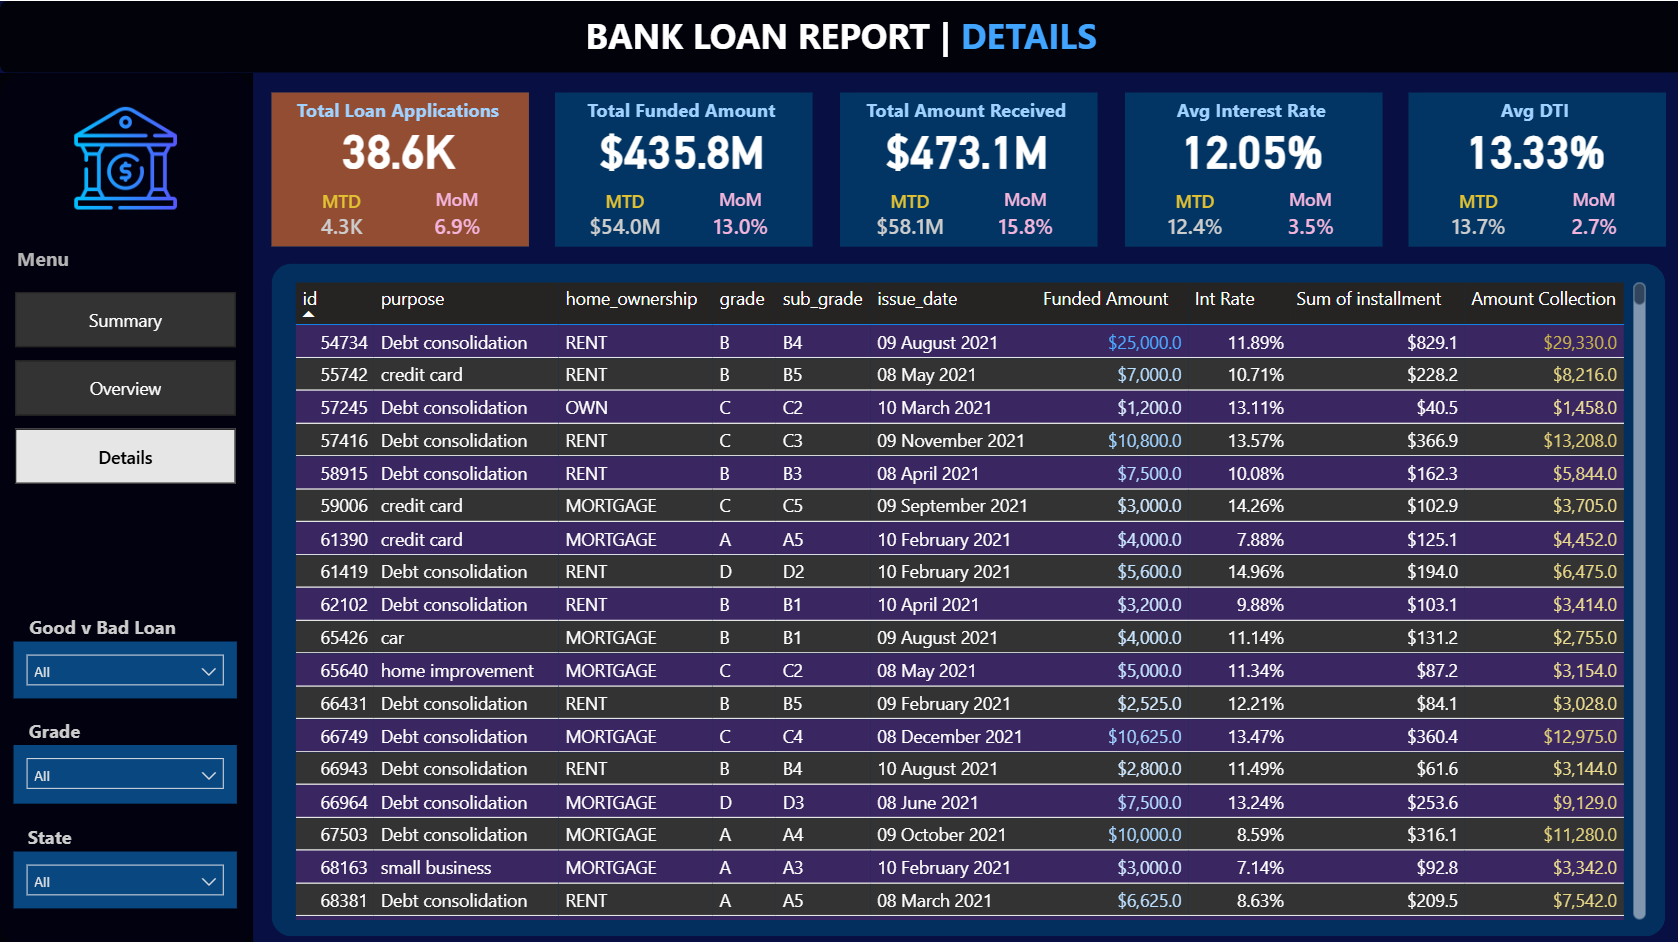

This screenshot's page, from the dashboard's own definition file:
{"tool":"powerbi","page":{"name":"Details","canvas":[1280,720],"ordinal":2},"visuals":[{"type":"shape","box":[0,0,1280.5,54.6],"z":0},{"type":"group","id":"g1","title":"Group 1","box":[203.1,69.4,199.4,120.6],"z":0,"group":"g7"},{"type":"group","id":"g2","title":"Group 1","box":[419.5,69.4,199.4,120.6],"z":0,"group":"g8"},{"type":"group","id":"g3","title":"Group 1","box":[636,69.4,199.4,120.6],"z":0,"group":"g9"},{"type":"group","id":"g4","title":"Group 1","box":[852.6,69.4,199.4,120.6],"z":0,"group":"g10"},{"type":"group","id":"g5","title":"Group 1","box":[1069.1,69.4,199.4,120.6],"z":0,"group":"g11"},{"type":"textbox","box":[203.6,67.3,199.3,30.8],"z":1000,"group":"g7"},{"type":"textbox","box":[420,67.3,199.3,30.8],"z":1000,"group":"g8"},{"type":"textbox","box":[636.5,67.3,199.3,30.8],"z":1000,"group":"g9"},{"type":"textbox","box":[853.1,67.3,199.3,30.8],"z":1000,"group":"g10"},{"type":"textbox","box":[1069.6,67.3,199.3,30.8],"z":1000,"group":"g11"},{"type":"shape","box":[207,199.6,1060.9,512.2],"z":1000},{"type":"textbox","box":[8.1,461.6,140,35.6],"z":1000,"group":"g16"},{"type":"textbox","box":[9.9,539.5,62.5,32.4],"z":1000,"group":"g17"},{"type":"textbox","box":[1.8,620.6,71.2,29.7],"z":1000,"group":"g18"},{"type":"shape","box":[0,54.6,192.9,665.8],"z":2000},{"type":"shape","box":[0,54.6,192.9,665.8],"z":3000},{"type":"shape","box":[206.5,69.4,195.9,117.2],"z":3000,"group":"g1"},{"type":"shape","box":[422.9,69.4,195.9,117.2],"z":3000,"group":"g2"},{"type":"shape","box":[639.4,69.4,195.9,117.2],"z":3000,"group":"g3"},{"type":"shape","box":[856,69.4,195.9,117.2],"z":3000,"group":"g4"},{"type":"shape","box":[1072.5,69.4,195.9,117.2],"z":3000,"group":"g5"},{"type":"textbox","box":[403,2.1,474.5,45.6],"z":4000},{"type":"group","id":"g6","title":"Group 3","box":[203.1,67.3,199.8,123.3],"z":7000},{"type":"group","id":"g7","title":"Group 2","box":[203.1,67.3,199.8,122.6],"z":7000,"group":"g6"},{"type":"group","id":"g8","title":"Group 2","box":[419.5,67.3,199.8,122.6],"z":7000,"group":"g12"},{"type":"group","id":"g9","title":"Group 2","box":[636,67.3,199.8,122.6],"z":7000,"group":"g13"},{"type":"group","id":"g10","title":"Group 2","box":[852.6,67.3,199.8,122.6],"z":7000,"group":"g14"},{"type":"group","id":"g11","title":"Group 2","box":[1069.1,67.3,199.8,122.6],"z":7000,"group":"g15"},{"type":"group","id":"g12","title":"Group 3","box":[419.5,67.3,199.9,123.3],"z":8000},{"type":"card","fields":{"Values":["financial_loan.Total Loan Applications"]},"box":[203.1,88.3,199.3,45.5],"z":8000,"group":"g1"},{"type":"card","fields":{"Values":["financial_loan.Total Loan Amount"]},"box":[419.5,88.3,199.3,45.5],"z":8000,"group":"g2"},{"type":"card","fields":{"Values":["financial_loan.Total Amount Collection"]},"box":[636,88.3,199.3,45.5],"z":8000,"group":"g3"},{"type":"card","fields":{"Values":["financial_loan.Avg Interest Rate"]},"box":[852.6,88.3,199.3,45.5],"z":8000,"group":"g4"},{"type":"card","fields":{"Values":["financial_loan.Avg DTI"]},"box":[1069.1,88.3,199.3,45.5],"z":8000,"group":"g5"},{"type":"card","title":"MoM","fields":{"Values":["financial_loan.YOY Loan Applications"]},"box":[303.6,141.9,88.1,48.7],"z":8000,"group":"g6"},{"type":"card","title":"MoM","fields":{"Values":["financial_loan.YOY Loan Amount"]},"box":[520,141.9,88.1,48.7],"z":8000,"group":"g12"},{"type":"card","title":"MoM","fields":{"Values":["financial_loan.YOY Loan Collection"]},"box":[736.5,141.9,88.1,48.7],"z":8000,"group":"g13"},{"type":"card","title":"MoM","fields":{"Values":["financial_loan.YOY Int Rate"]},"box":[953.1,141.9,88.1,48.7],"z":8000,"group":"g14"},{"type":"card","title":"MoM","fields":{"Values":["financial_loan.YOY DTI"]},"box":[1169.6,141.9,88.1,48.7],"z":8000,"group":"g15"},{"type":"group","id":"g13","title":"Group 3","box":[636,67.3,199.9,123.3],"z":9000},{"type":"card","title":"MTD","fields":{"Values":["financial_loan.MTD Applications"]},"box":[209.8,142,99.3,48],"z":9000,"group":"g1"},{"type":"card","title":"MTD","fields":{"Values":["financial_loan.MTD Loan Amount"]},"box":[426.2,142,99.3,48],"z":9000,"group":"g2"},{"type":"card","title":"MTD","fields":{"Values":["financial_loan.MTD Loan Collection"]},"box":[642.7,142,99.3,48],"z":9000,"group":"g3"},{"type":"card","title":"MTD","fields":{"Values":["financial_loan.MTD Avg Int Rate"]},"box":[859.3,142,99.3,48],"z":9000,"group":"g4"},{"type":"card","title":"MTD","fields":{"Values":["financial_loan.MTD Avg DTI"]},"box":[1075.8,142,99.3,48],"z":9000,"group":"g5"},{"type":"group","id":"g14","title":"Group 3","box":[852.6,67.3,199.9,123.3],"z":10000},{"type":"group","id":"g15","title":"Group 3","box":[1069.1,67.3,199.9,123.3],"z":11000},{"type":"image","box":[26.8,69.2,138.4,99.3],"z":12000},{"type":"slicer","fields":{"Values":["financial_loan.Good v Bad Loan"]},"box":[10.1,487,169.7,43],"z":13000},{"type":"slicer","fields":{"Values":["financial_loan.grade"]},"box":[10.4,566.7,169.9,44.5],"z":14000},{"type":"slicer","fields":{"Values":["financial_loan.address_state"]},"box":[10,647.3,169.9,43.5],"z":15000},{"type":"group","id":"g16","title":"Group 2","box":[8.1,461.6,140,35.6],"z":16000},{"type":"group","id":"g17","title":"Group 2","box":[9.9,539.5,62.5,32.4],"z":17000},{"type":"group","id":"g18","title":"Group 2","box":[1.8,620.6,71.2,29.7],"z":18000},{"type":"pageNavigator","box":[11.9,221.9,168.5,147.2],"z":19000},{"type":"textbox","box":[8.3,180.3,157.5,34.2],"z":20000},{"type":"tableEx","fields":{"Values":["financial_loan.id","financial_loan.purpose","financial_loan.home_ownership","financial_loan.grade","financial_loan.sub_grade","financial_loan.issue_date","financial_loan.Total Funded Amount","Sum(financial_loan.int_rate)","Sum(financial_loan.installment)","financial_loan.Total Amount Collection"]},"box":[219.6,209.3,1038,495.2],"z":21000}]}

Visuals, with their boxes in screenshot pixels (x1, y1, x2, y2), scaled from the page's 1280x720 canvas onto the 1678x942 screenshot:
shape: (0, 0, 1677, 71)
"Group 1" group: (266, 91, 528, 249)
"Group 1" group: (550, 91, 811, 249)
"Group 1" group: (834, 91, 1095, 249)
"Group 1" group: (1118, 91, 1379, 249)
"Group 1" group: (1402, 91, 1663, 249)
textbox: (267, 88, 528, 128)
textbox: (551, 88, 812, 128)
textbox: (834, 88, 1096, 128)
textbox: (1118, 88, 1380, 128)
textbox: (1402, 88, 1663, 128)
shape: (271, 261, 1662, 931)
textbox: (11, 604, 194, 651)
textbox: (13, 706, 95, 748)
textbox: (2, 812, 96, 851)
shape: (0, 71, 253, 941)
shape: (0, 71, 253, 941)
shape: (271, 91, 528, 244)
shape: (554, 91, 811, 244)
shape: (838, 91, 1095, 244)
shape: (1122, 91, 1379, 244)
shape: (1406, 91, 1663, 244)
textbox: (528, 3, 1150, 62)
"Group 3" group: (266, 88, 528, 249)
"Group 2" group: (266, 88, 528, 248)
"Group 2" group: (550, 88, 812, 248)
"Group 2" group: (834, 88, 1096, 248)
"Group 2" group: (1118, 88, 1380, 248)
"Group 2" group: (1402, 88, 1663, 248)
"Group 3" group: (550, 88, 812, 249)
card - financial_loan.Total Loan Applications: (266, 116, 528, 175)
card - financial_loan.Total Loan Amount: (550, 116, 811, 175)
card - financial_loan.Total Amount Collection: (834, 116, 1095, 175)
card - financial_loan.Avg Interest Rate: (1118, 116, 1379, 175)
card - financial_loan.Avg DTI: (1402, 116, 1663, 175)
"MoM" card: (398, 186, 513, 249)
"MoM" card: (682, 186, 797, 249)
"MoM" card: (966, 186, 1081, 249)
"MoM" card: (1249, 186, 1365, 249)
"MoM" card: (1533, 186, 1649, 249)
"Group 3" group: (834, 88, 1096, 249)
"MTD" card: (275, 186, 405, 249)
"MTD" card: (559, 186, 689, 249)
"MTD" card: (843, 186, 973, 249)
"MTD" card: (1126, 186, 1257, 249)
"MTD" card: (1410, 186, 1540, 249)
"Group 3" group: (1118, 88, 1380, 249)
"Group 3" group: (1402, 88, 1664, 249)
image: (35, 91, 217, 220)
slicer - financial_loan.Good v Bad Loan: (13, 637, 236, 693)
slicer - financial_loan.grade: (14, 741, 236, 800)
slicer - financial_loan.address_state: (13, 847, 236, 904)
"Group 2" group: (11, 604, 194, 651)
"Group 2" group: (13, 706, 95, 748)
"Group 2" group: (2, 812, 96, 851)
pageNavigator: (16, 290, 236, 483)
textbox: (11, 236, 217, 281)
tableEx - financial_loan.id x financial_loan.purpose: (288, 274, 1649, 922)
